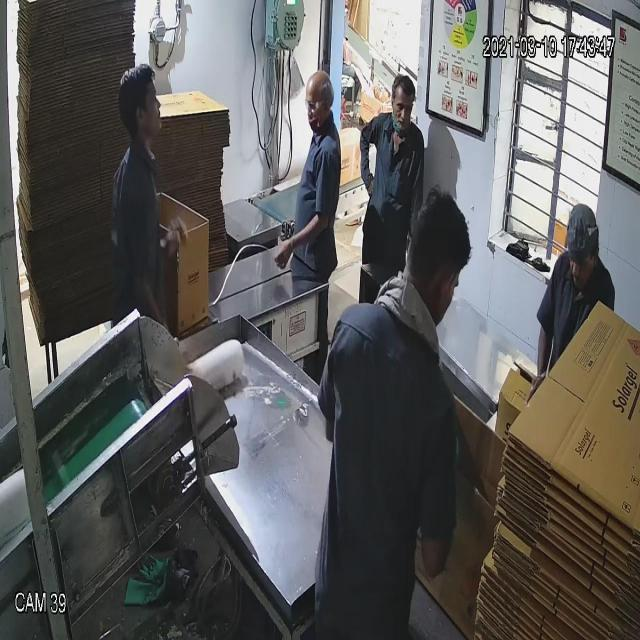No_Gloves: (31, 70, 542, 367)
